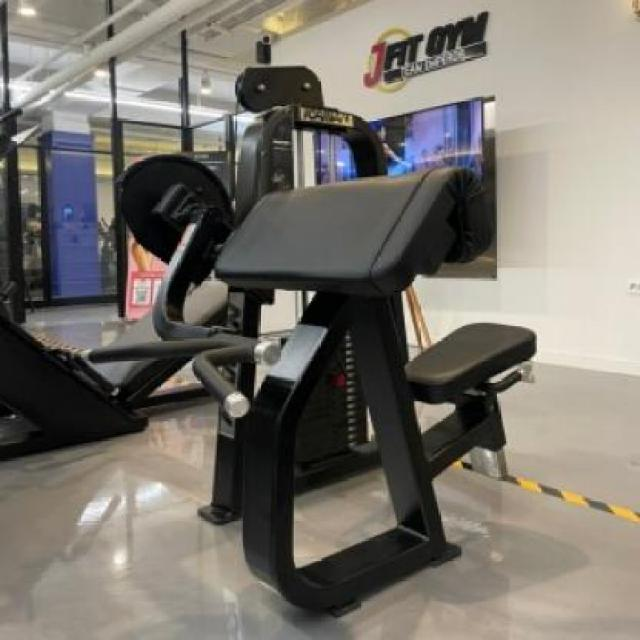arm curl machine: (77, 106, 535, 619)
